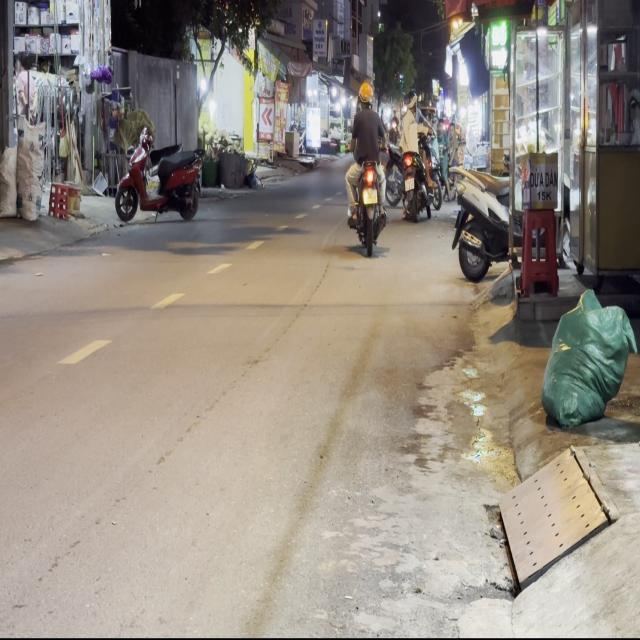helmet: (358, 80, 372, 107)
licenseplate: (343, 79, 388, 252)
nohelmet: (362, 188, 377, 204)
